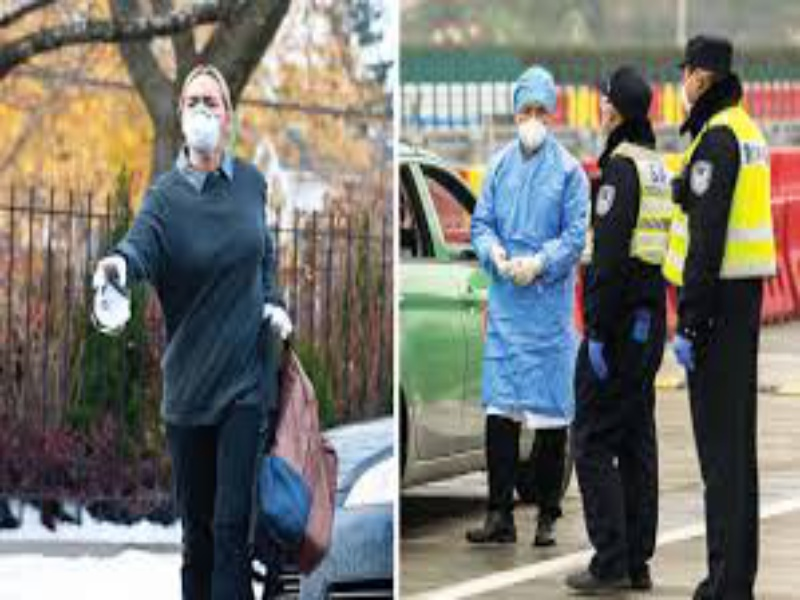ManaoArotava: (172, 58, 236, 173), (504, 58, 567, 162)
